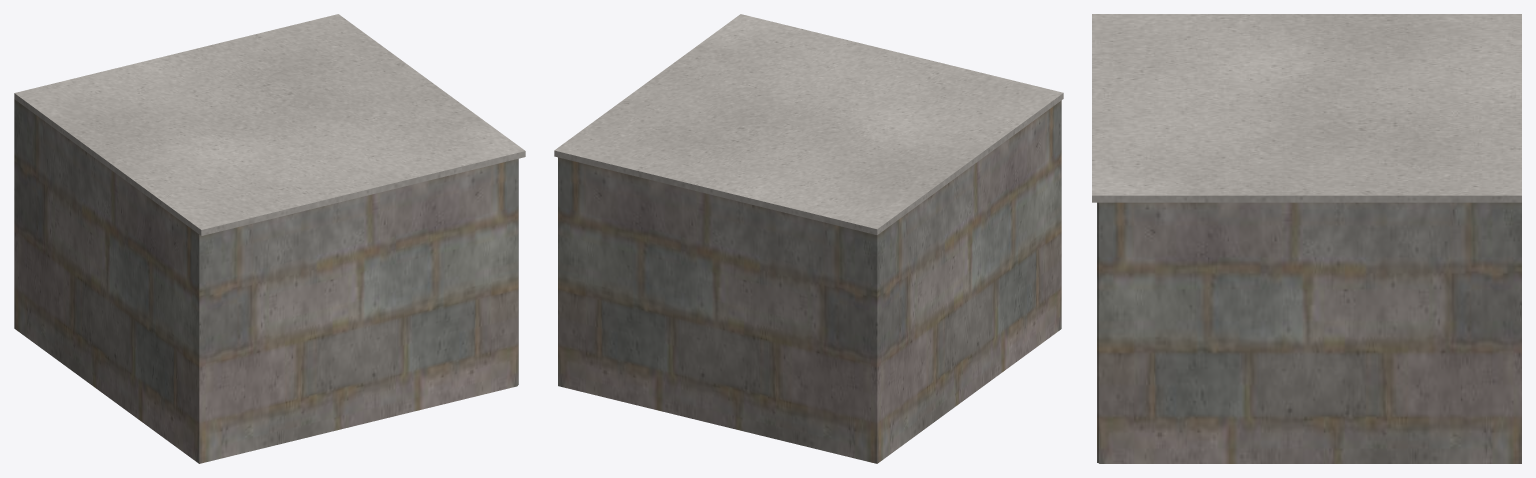
Rendered from floor_vault_e30_0_30_0.glb.
3 views of the same model, side by side, from view 1: azimuth 30°, elevation 25°; view 2: azimuth 150°, elevation 25°; view 3: azimuth 270°, elevation 25° (orthographic). The views are drawn at different scales.
Visible parts, largest first — view 1: floor_vault_e30_0_30_0_granite, floor_vault_e30_0_30_0_concrete; view 2: floor_vault_e30_0_30_0_granite, floor_vault_e30_0_30_0_concrete; view 3: floor_vault_e30_0_30_0_granite, floor_vault_e30_0_30_0_concrete.
Part boxes in pixels (x1,y1,x2,y2): floor_vault_e30_0_30_0_granite: (14, 99, 518, 463); floor_vault_e30_0_30_0_concrete: (14, 14, 525, 235); floor_vault_e30_0_30_0_granite: (558, 100, 1061, 463); floor_vault_e30_0_30_0_concrete: (554, 14, 1063, 234); floor_vault_e30_0_30_0_granite: (1097, 202, 1521, 463); floor_vault_e30_0_30_0_concrete: (1092, 14, 1521, 202).
Bounding box in the file's own units: 1.7 × 1.18 × 1.7.
2 materials, 2 textured.
